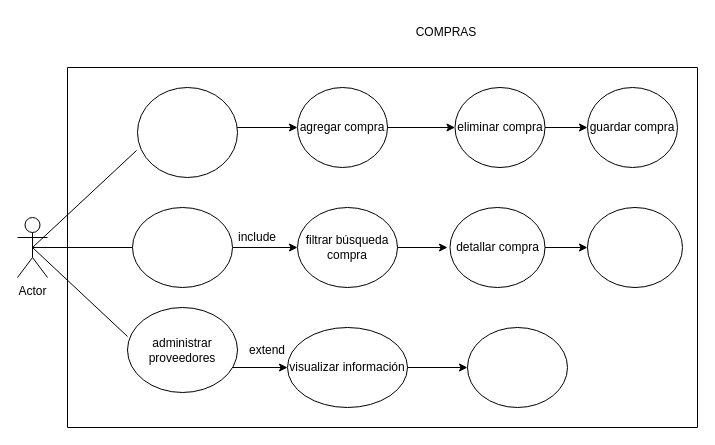
Some shapes in this 715 by 445 pixel diagram are drawn without their labels. The shapes that lost their labels are listed below. From the top down, each one's centre as x and y in pixels, then its label:
At point (187, 132): "registrar compra".
At point (182, 247): "consultar compra".
At point (634, 247): "imprimir compra".
At point (517, 367): "generar compra".
